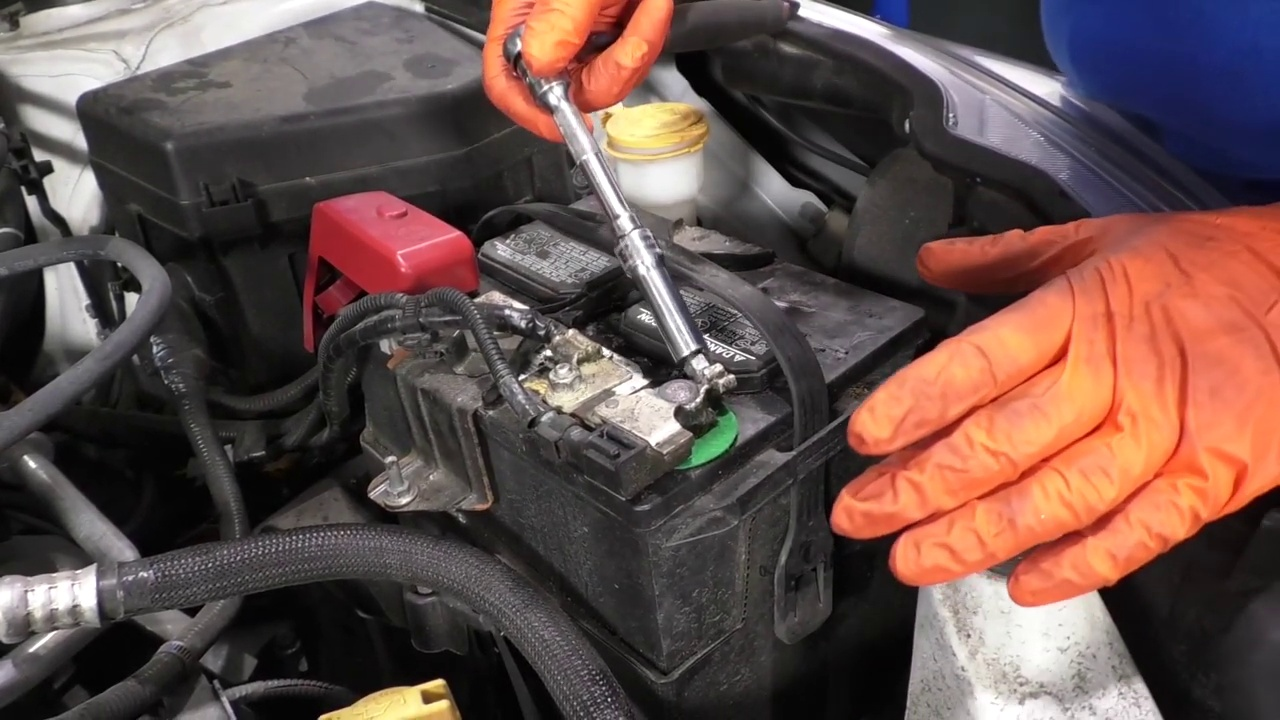battery: (306, 185, 919, 496)
neg_connected: (578, 329, 721, 488)
pos_connected: (294, 171, 489, 344)
